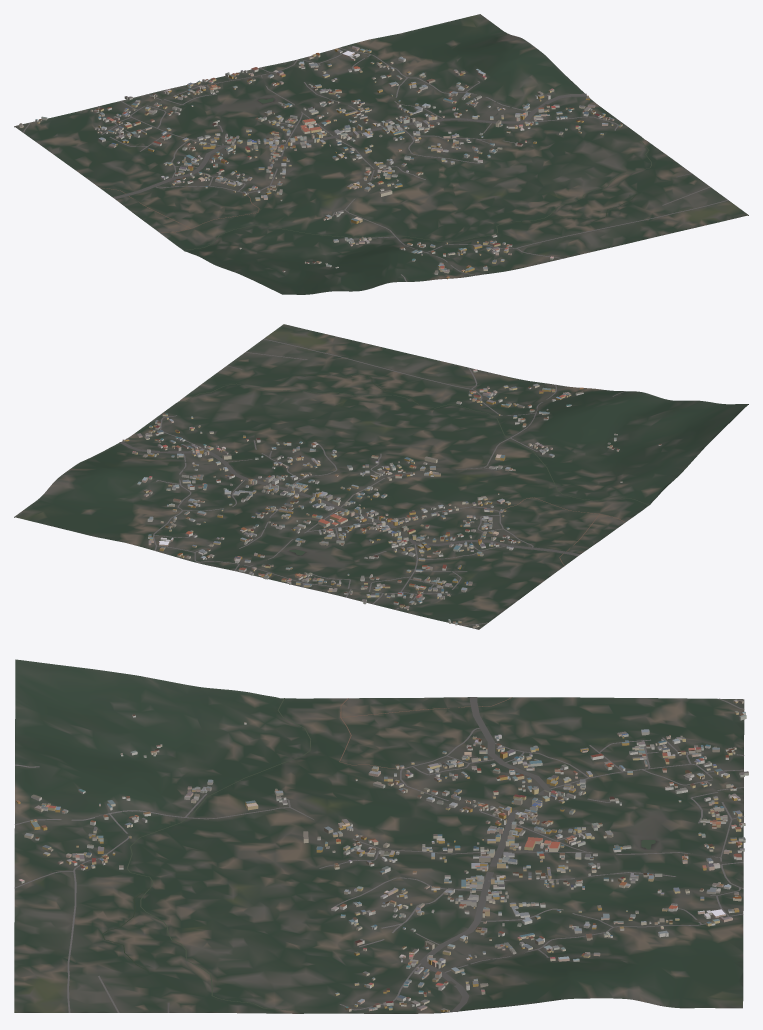
The picture shows the model from 3 angles, top to bottom: view 1: azimuth 30°, elevation 25°; view 2: azimuth 150°, elevation 25°; view 3: azimuth 270°, elevation 25°; orthographic projection. The views are drawn at different scales.
Parts seen in each view (by area): view 1: ground, buildings, roads, water; view 2: ground, buildings, roads, water; view 3: ground, buildings, roads, water.
Part boxes in pixels (box(x1,y1,x2,y2)): ground: box(14, 14, 748, 294); buildings: box(19, 46, 622, 279); roads: box(23, 47, 728, 281); water: box(183, 98, 651, 250); ground: box(14, 324, 748, 629); buildings: box(122, 369, 661, 628); roads: box(119, 339, 625, 626); water: box(178, 374, 648, 555); ground: box(14, 659, 744, 1013); buildings: box(16, 699, 748, 1012); roads: box(14, 697, 744, 1012); water: box(102, 698, 655, 1013).
Bounding box in the file's own units: 1404 × 102 × 1413.
